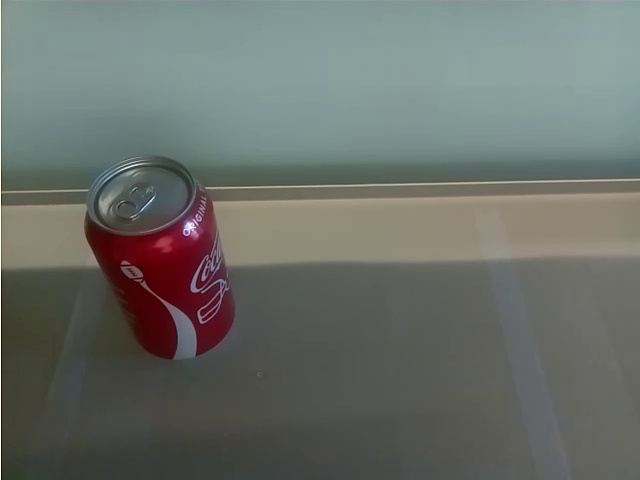cocacola: (80, 155, 236, 360)
